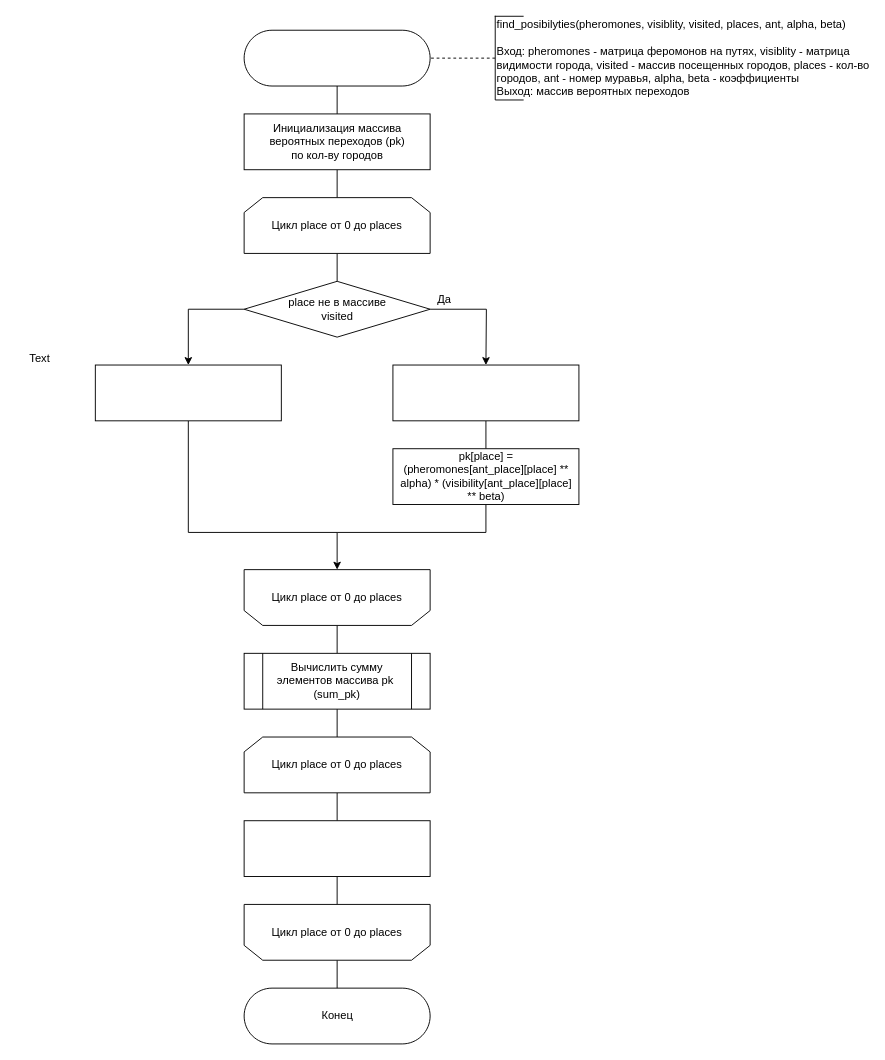
This 885x1060 diagram has some shape labels left out. The centre of each missing label's shape, as x and y in pixels:
"ant_place = visited[-1]" goes at point (485, 392).
"pk[place] /= sum_pk" goes at point (336, 848).
"pk[place] = 0" goes at point (187, 392).
"Начало" goes at point (336, 57).
